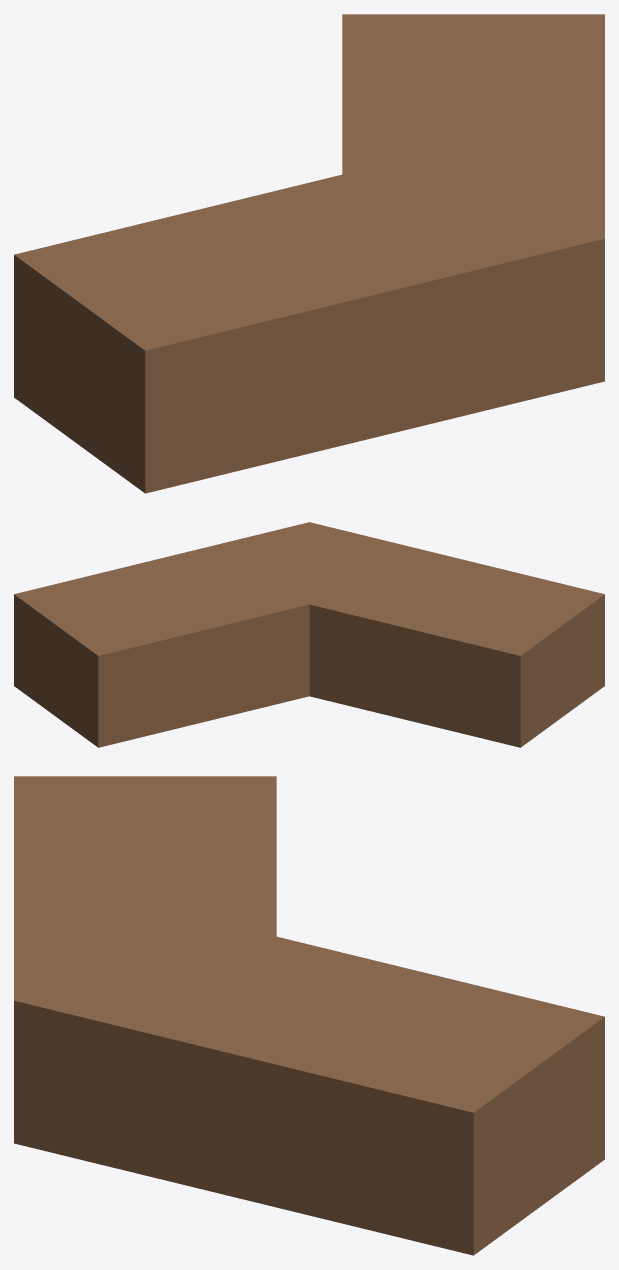
File: 10wall1.glb
The picture shows the model from 3 angles, top to bottom: view 1: azimuth 30°, elevation 25°; view 2: azimuth 150°, elevation 25°; view 3: azimuth 270°, elevation 25°; orthographic projection. The views are drawn at different scales.
Visible parts, largest first — view 1: Cliff3; view 2: Cliff3; view 3: Cliff3.
Part boxes in pixels (box(x1,y1,x2,y2)): Cliff3: box(14, 14, 604, 493); Cliff3: box(14, 522, 604, 747); Cliff3: box(14, 776, 604, 1255).
Size of the model in its own units: 1.52 by 0.3 by 1.12.
1 material, 1 textured.
